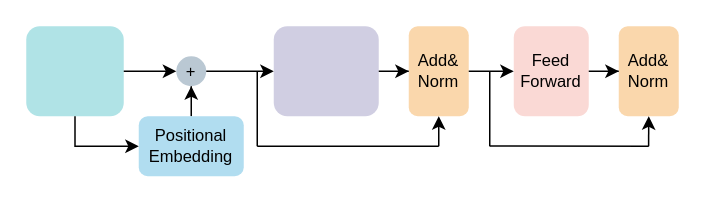
The diagram is 704 pixels wide and 201 high, and some of its shapes have lost their labels. Here are the shapes that lost their labels. From the top down, the centre of each, then its label:
At (74,71): "Input Embedding".
At (325,71): "Multi-Head Self attention".
